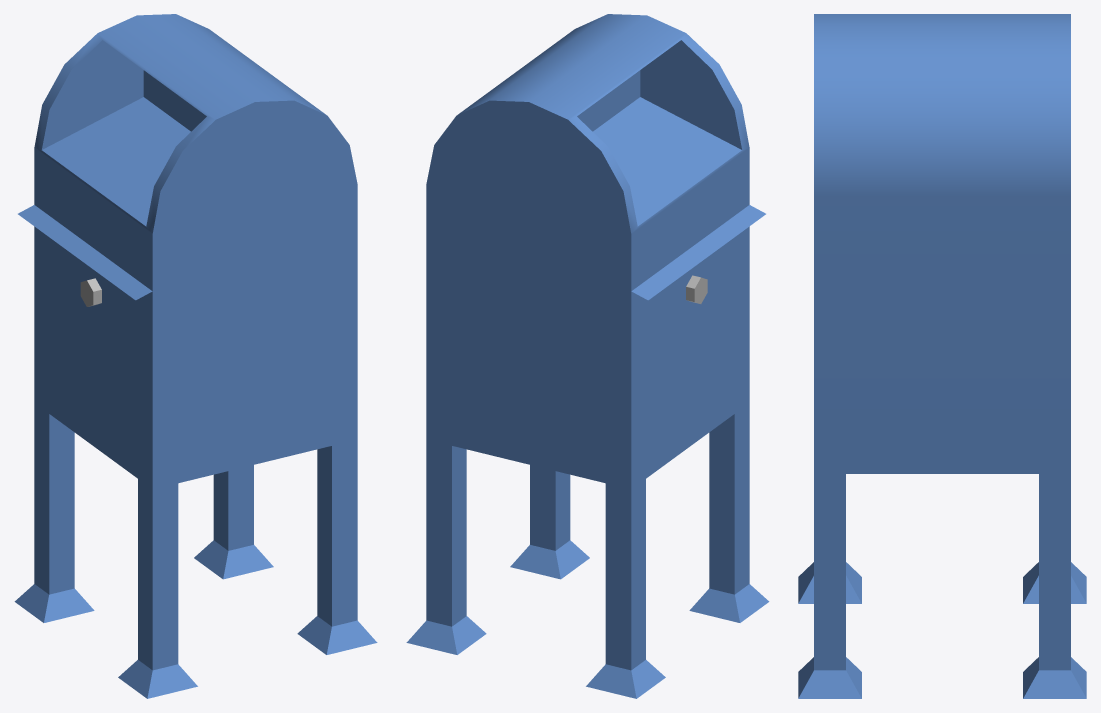
File: mailbox_blue_big.fbx
3 renders of one model, left to right at view 1: azimuth 30°, elevation 25°; view 2: azimuth 150°, elevation 25°; view 3: azimuth 270°, elevation 25°, orthographic. The views are drawn at different scales.
Visible parts, largest first — view 1: mailbox; view 2: mailbox; view 3: mailbox.
Part boxes in pixels (<box>): mailbox: <box>14,14,377,698</box>; mailbox: <box>406,14,769,698</box>; mailbox: <box>798,14,1086,698</box>.
Size of the model in its own units: 18.32 by 42.06 by 17.97.
